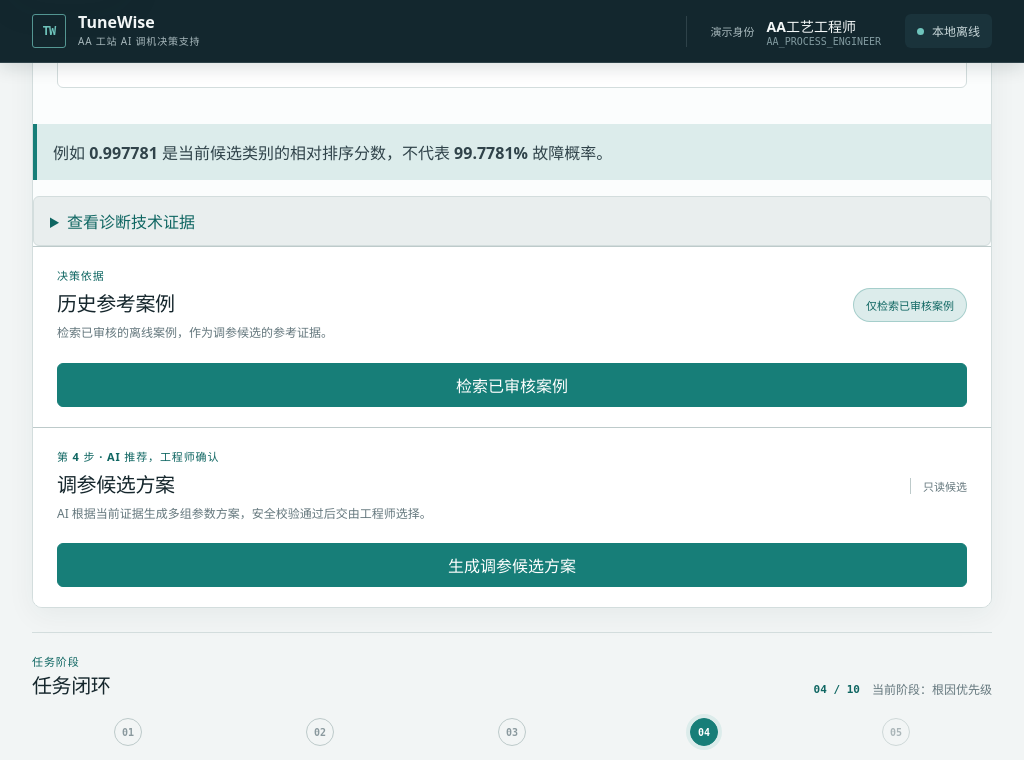
retrieves and displays at most three approved cases with neutral evidence
(page scrolled)
Click the button "检索已审核案例" at (512, 385), box [57,363,967,407]
(page scrolled)
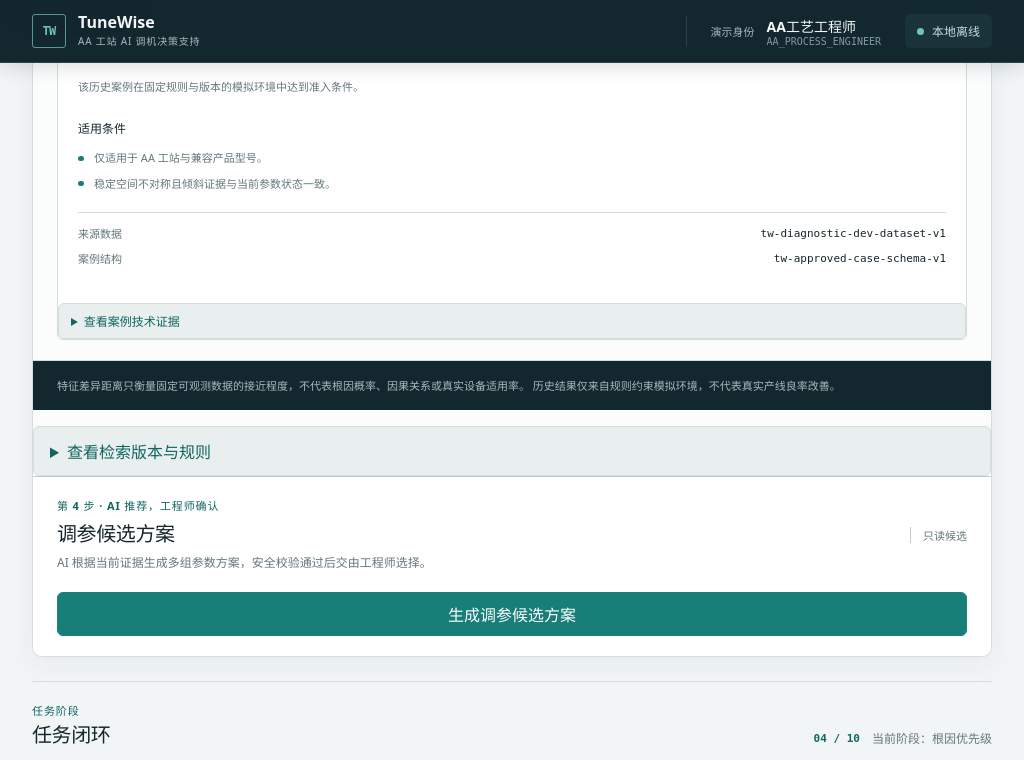
Expected: the number of list items "已审核案例" is 3
Expected: the text "不代表根因概率、因果关系或真实设备适用率" is shown, [57,378,841,393]
